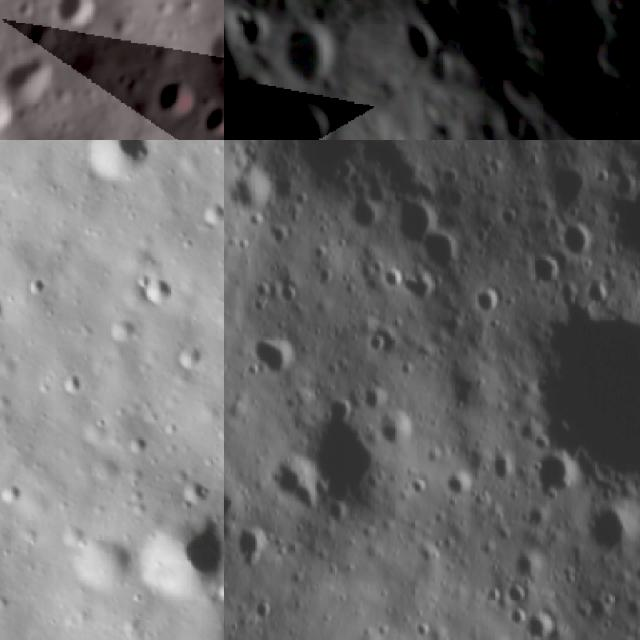crater: (519, 305, 640, 487), (302, 401, 400, 514), (142, 511, 224, 591), (268, 16, 333, 90), (70, 526, 130, 594), (262, 448, 320, 515), (246, 322, 306, 382), (580, 500, 640, 557), (4, 43, 54, 106), (384, 16, 442, 70), (88, 140, 160, 181), (140, 267, 198, 316), (525, 447, 577, 498), (414, 223, 465, 274), (232, 517, 272, 581), (591, 68, 639, 120), (224, 0, 250, 93), (392, 191, 438, 239), (156, 71, 198, 122), (282, 98, 333, 140), (232, 163, 268, 220), (549, 167, 591, 209), (556, 220, 592, 266), (346, 191, 382, 236), (523, 600, 563, 640), (523, 246, 563, 284), (51, 0, 100, 29), (438, 459, 473, 499), (382, 408, 418, 444), (508, 546, 543, 581), (224, 445, 237, 538), (197, 98, 224, 140), (272, 278, 308, 308), (618, 179, 640, 225), (577, 279, 614, 305), (486, 448, 514, 482), (206, 23, 224, 72), (246, 274, 268, 310), (216, 574, 224, 601)
